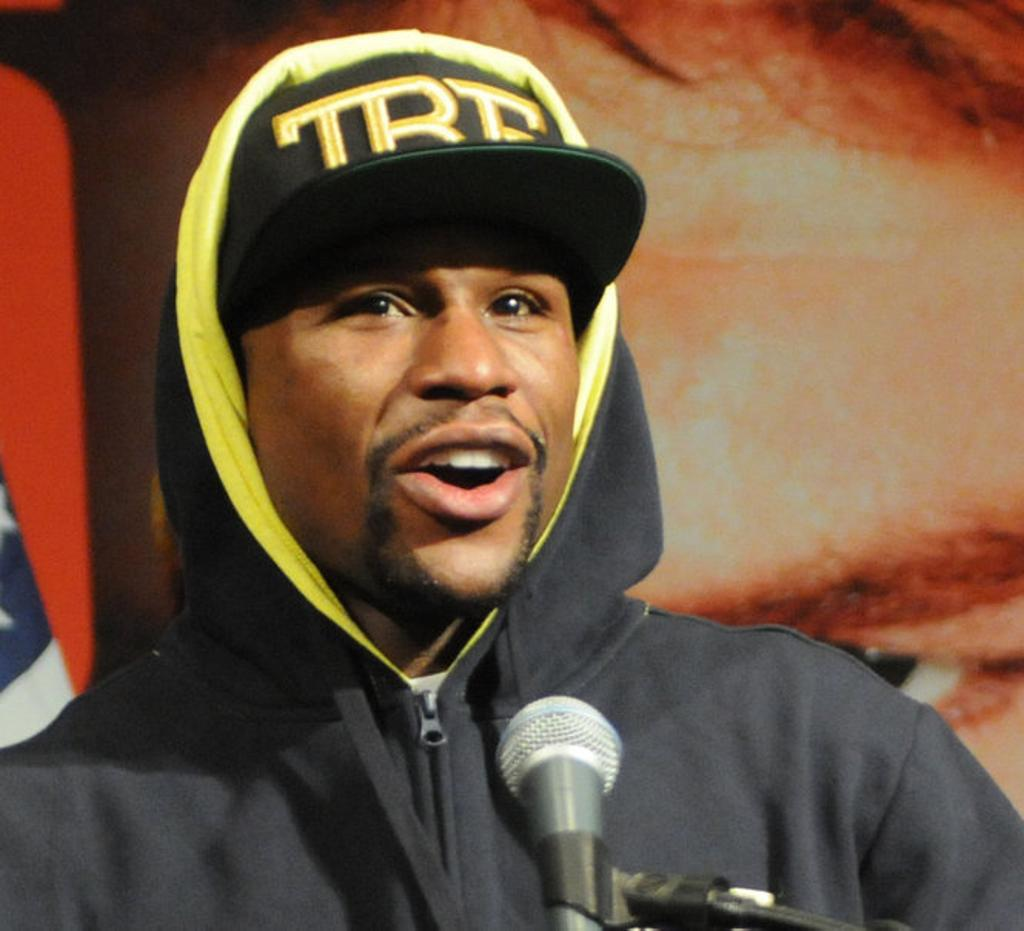face: (253, 157, 577, 611)
